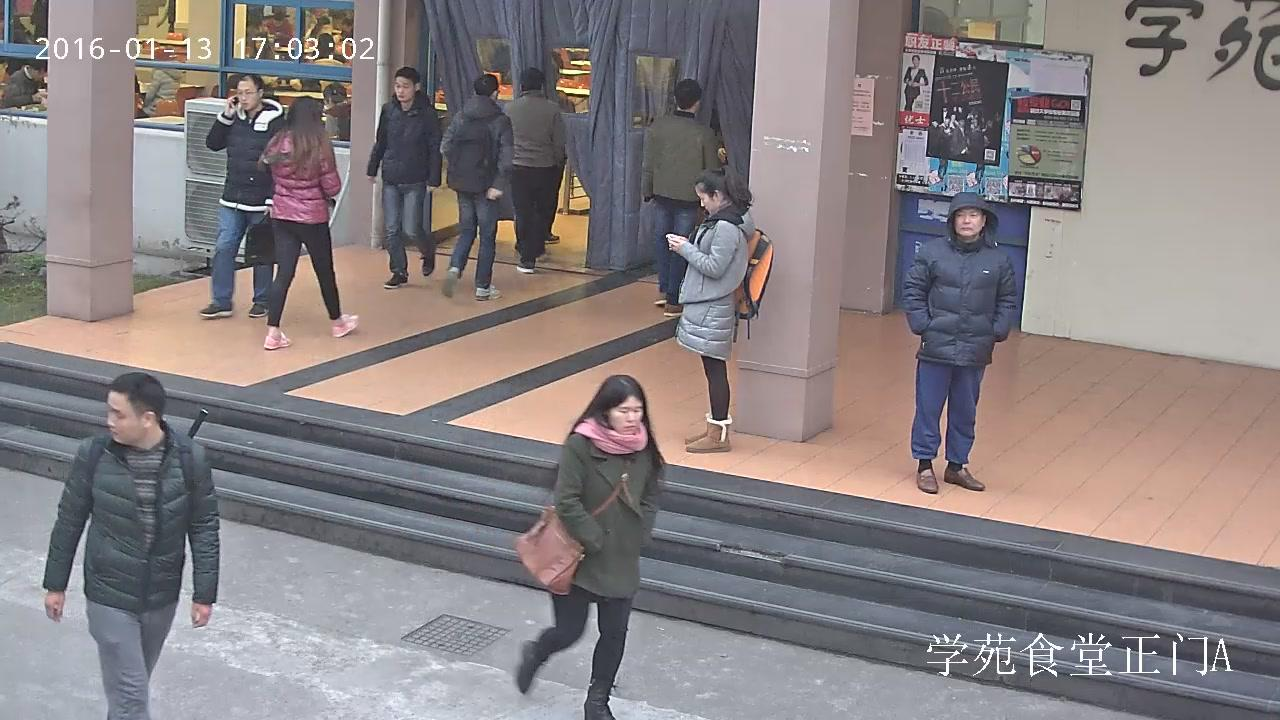person: (43, 372, 219, 720), (513, 374, 664, 720), (902, 192, 1019, 494), (665, 165, 774, 453), (257, 95, 360, 351), (199, 73, 286, 319), (641, 78, 719, 317), (366, 65, 442, 288), (439, 73, 513, 301), (503, 66, 565, 274), (3, 57, 47, 110), (138, 66, 180, 119), (321, 82, 349, 140), (902, 55, 929, 111), (304, 16, 341, 49), (266, 10, 293, 48), (29, 0, 47, 44), (338, 18, 353, 43)
